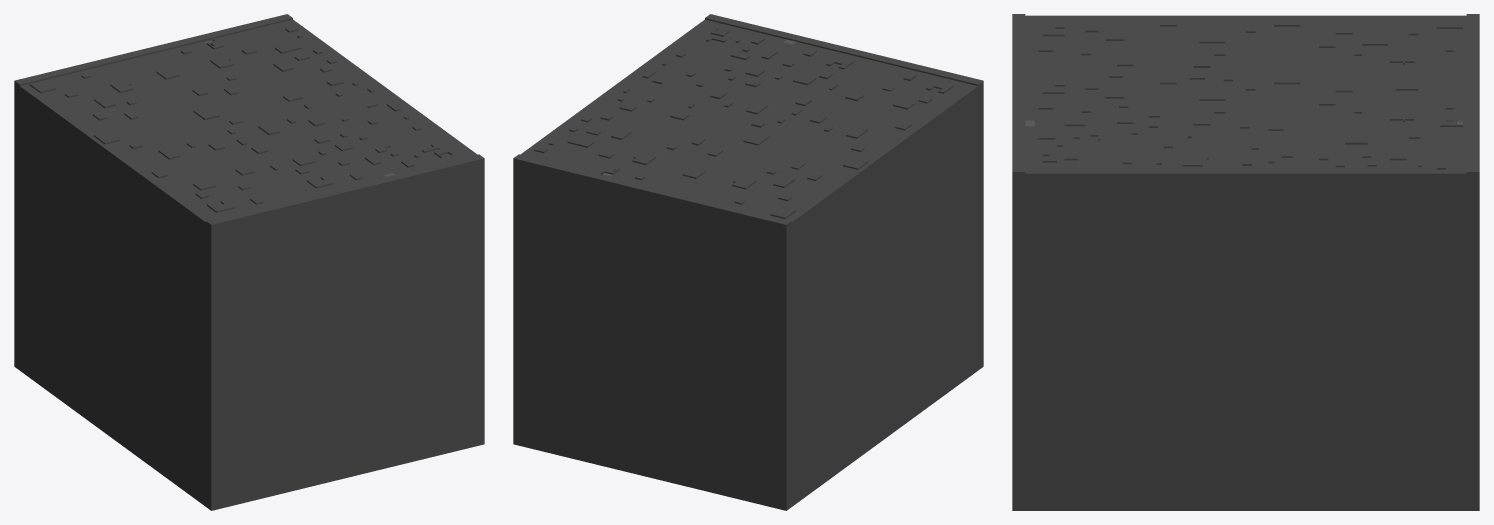
File: Roads-0.obj
3 views of the same model, side by side, from view 1: azimuth 30°, elevation 25°; view 2: azimuth 150°, elevation 25°; view 3: azimuth 270°, elevation 25° (orthographic). The views are drawn at different scales.
Bounding box in the file's own units: 20 × 20 × 25.
